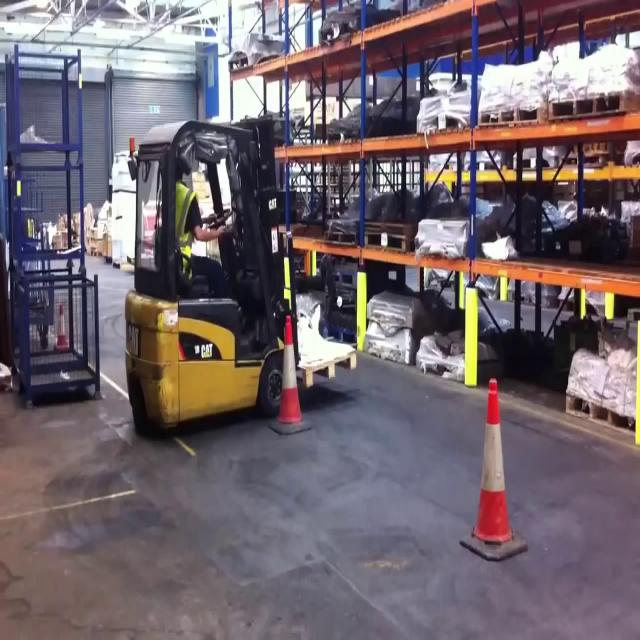Chariot elevateur: (118, 107, 322, 447)
